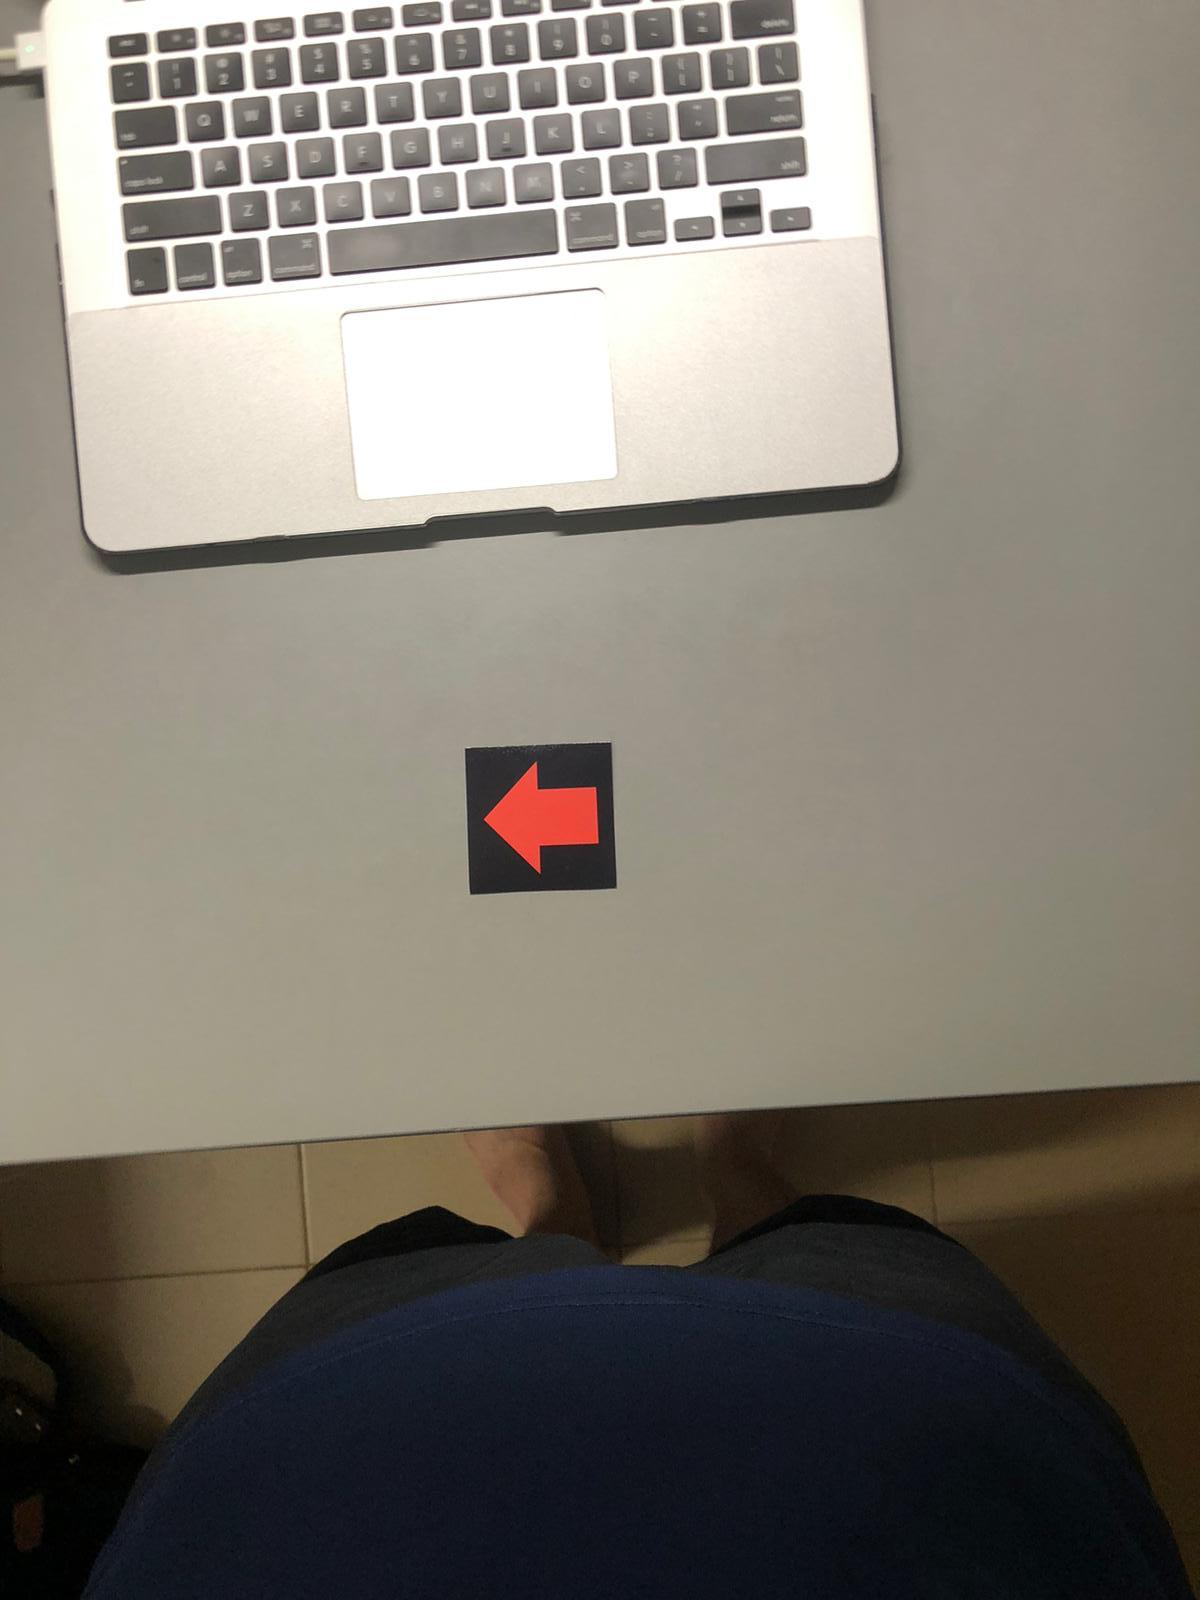Left Arrow: (463, 743, 618, 888)
